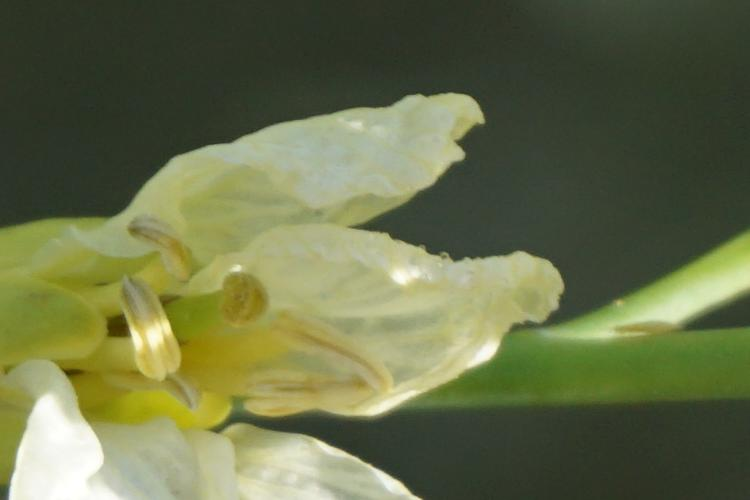white: (30, 111, 531, 500)
